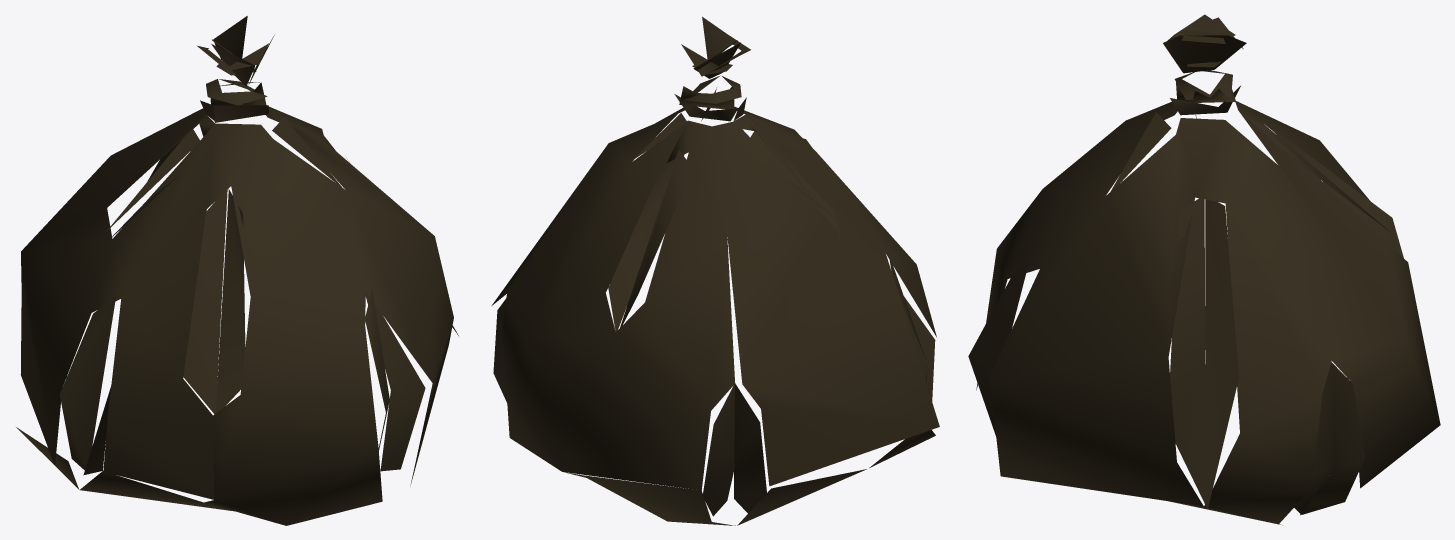
Rendered from bag.glb.
The picture shows the model from 3 angles, left to right: view 1: azimuth 30°, elevation 25°; view 2: azimuth 150°, elevation 25°; view 3: azimuth 270°, elevation 25°; orthographic projection. The views are drawn at different scales.
Parts seen in each view (by area): view 1: TrashBag_1; view 2: TrashBag_1; view 3: TrashBag_1.
Part boxes in pixels (bbox=[...]): TrashBag_1: bbox=[16, 16, 458, 525]; TrashBag_1: bbox=[491, 16, 939, 525]; TrashBag_1: bbox=[968, 14, 1440, 525].
Bounding box in the file's own units: 0.6039 × 0.6409 × 0.5564.
Materials: 1 (1 with a texture image).
